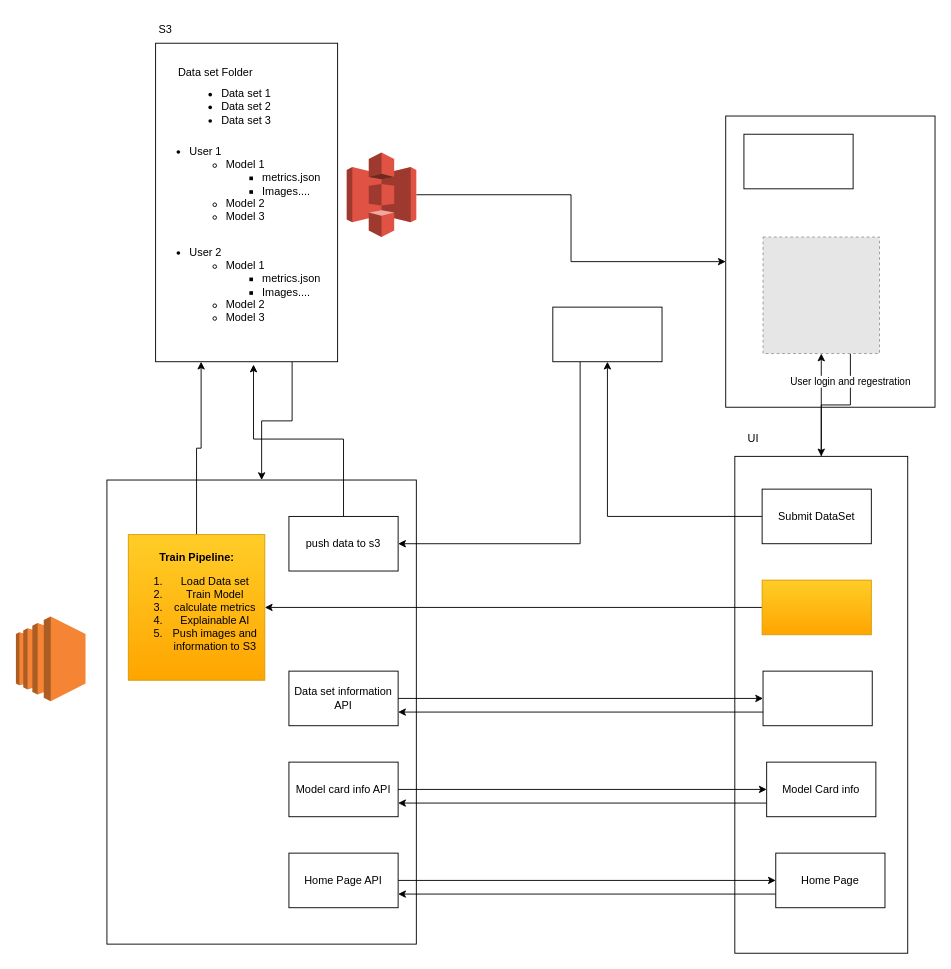
The diagram is 951 pixels wide and 969 high, and some of its shapes have lost their labels. Grey dashed boxes stand in for pictures. The shapes that lost their labels are listed below. From the top down, each one's centre as x and y in pixels, then its label:
At (798,161): "File system".
At (607,334): "s3 or drive".
At (816,607): "train model".
At (817,698): "show data sets".
